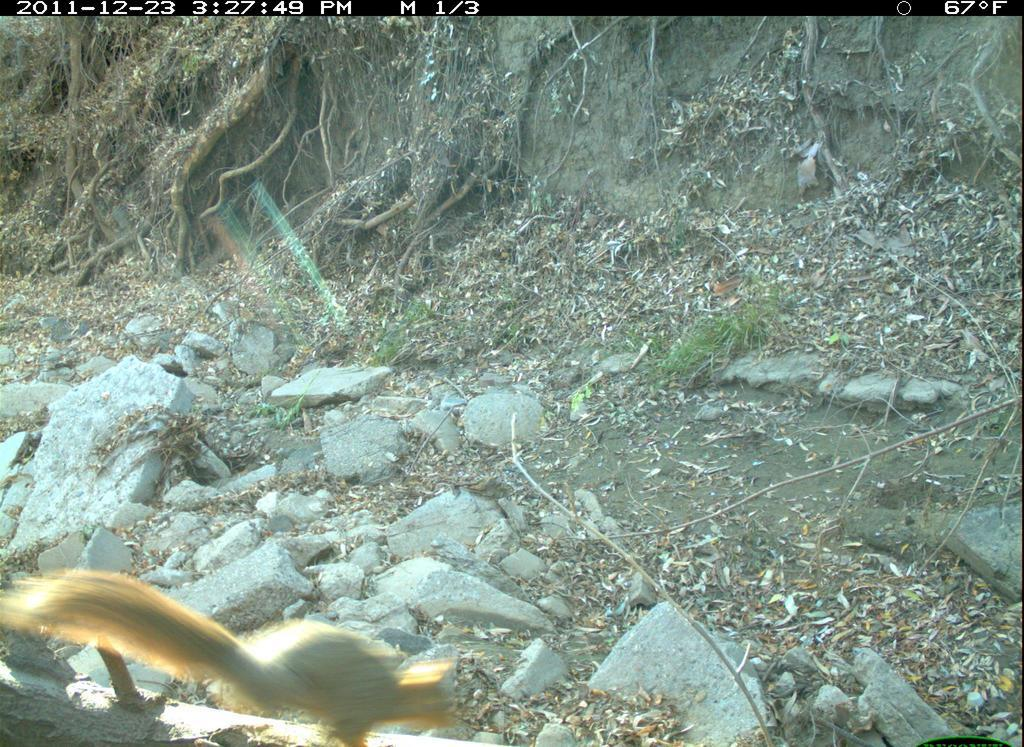squirrel: (2, 538, 519, 740)
